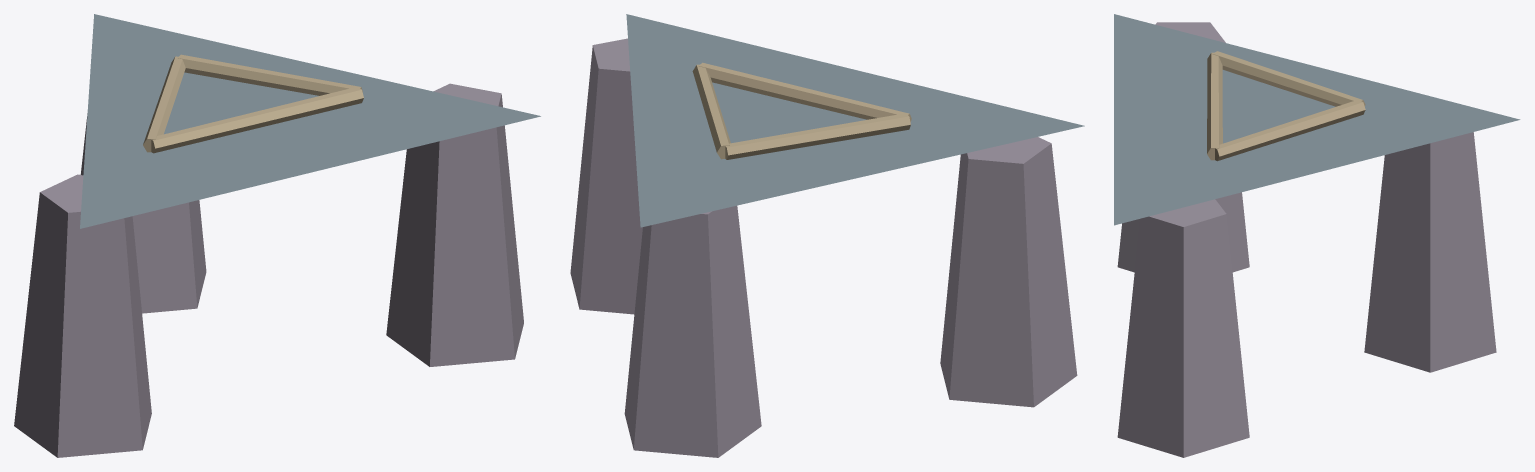
File: map-exclusive-v3__highland_10.glb
3 renders of one model, left to right at view 1: azimuth 30°, elevation 25°; view 2: azimuth 150°, elevation 25°; view 3: azimuth 270°, elevation 25°, orthographic. The views are drawn at different scales.
Parts seen in each view (by area): view 1: highland_10; view 2: highland_10; view 3: highland_10.
Boxes of the visible parts, x1=… form: highland_10: x1=14, y1=14, x2=540, y2=457; highland_10: x1=570, y1=14, x2=1084, y2=457; highland_10: x1=1114, y1=14, x2=1520, y2=457.
Size of the model in its own units: 1.52 by 0.77 by 1.17.
